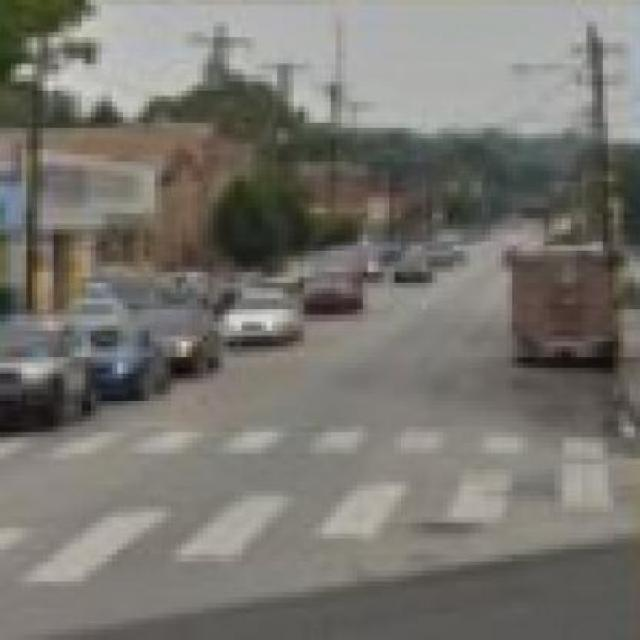crosswalk: (0, 462, 623, 583), (1, 435, 613, 461)
